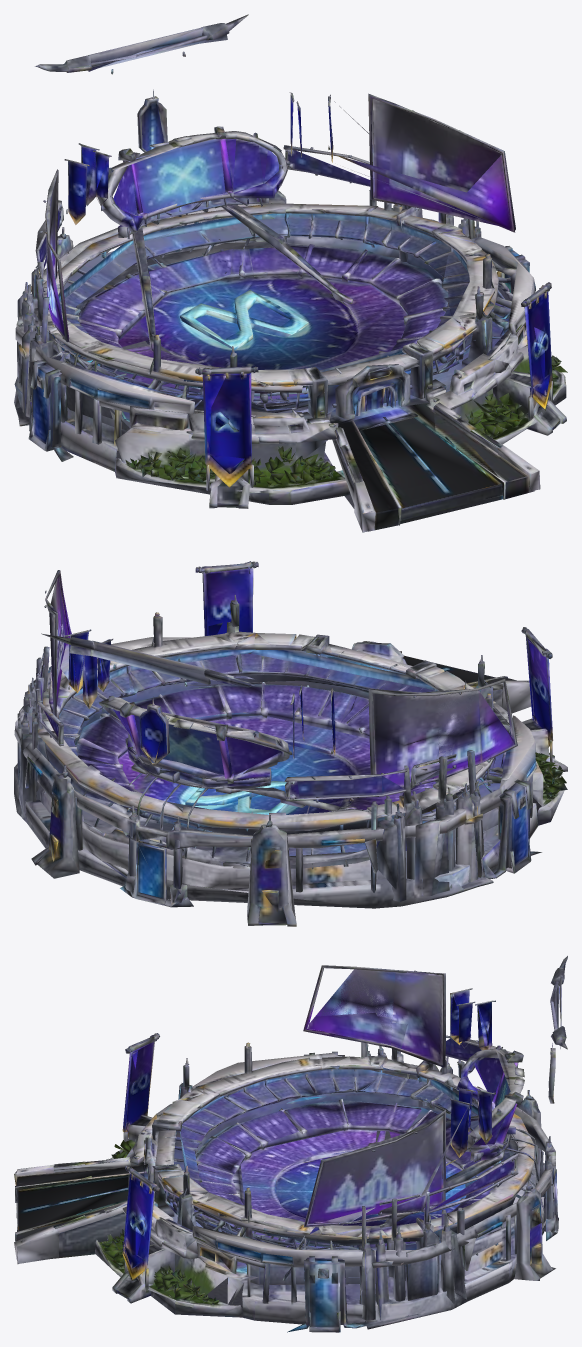
The model's file is arena.glb.
The picture shows the model from 3 angles, top to bottom: view 1: azimuth 30°, elevation 25°; view 2: azimuth 150°, elevation 25°; view 3: azimuth 270°, elevation 25°; orthographic projection. The views are drawn at different scales.
Bounding box in the file's own units: 0.8686 × 0.4296 × 0.9561.
1 material, 1 textured.
